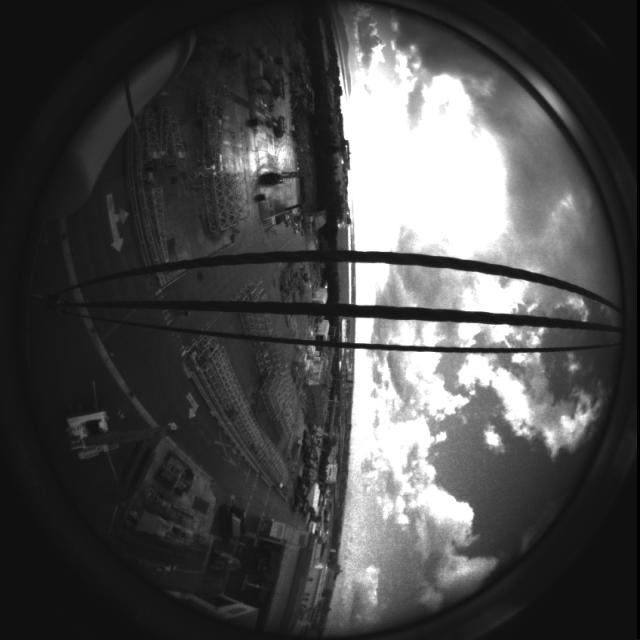rope: (2, 238, 638, 364)
sky: (322, 2, 618, 637)
